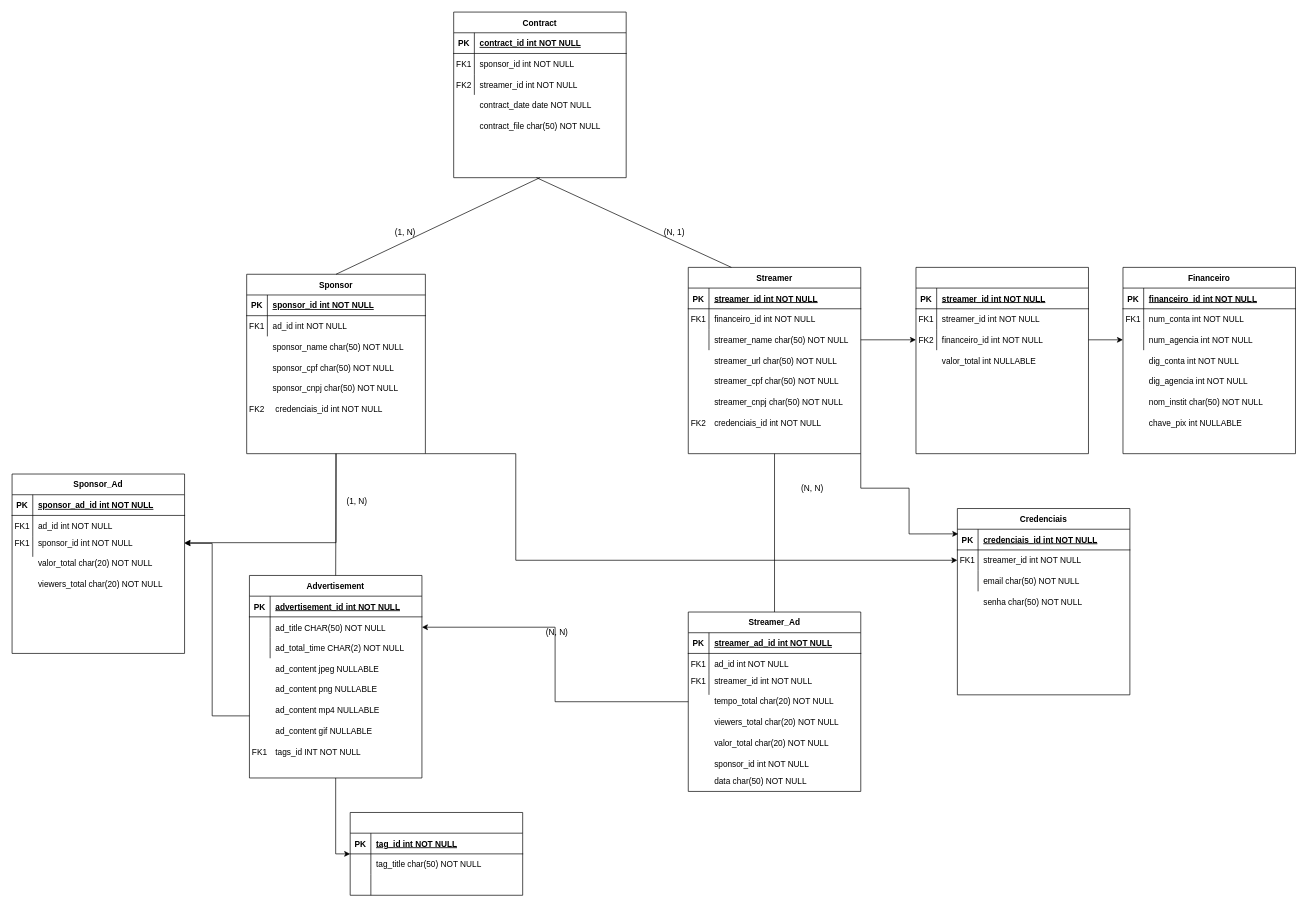
Image size: 1308x907. Some labels were removed from this diagram. The shapes that lost their labels are listed below. From the top down, each one's box as (x1, y1, x2, y2) in pixels, then its label:
(915, 267, 1088, 454): Streamer_Financeiro
(349, 812, 523, 895): Tags
